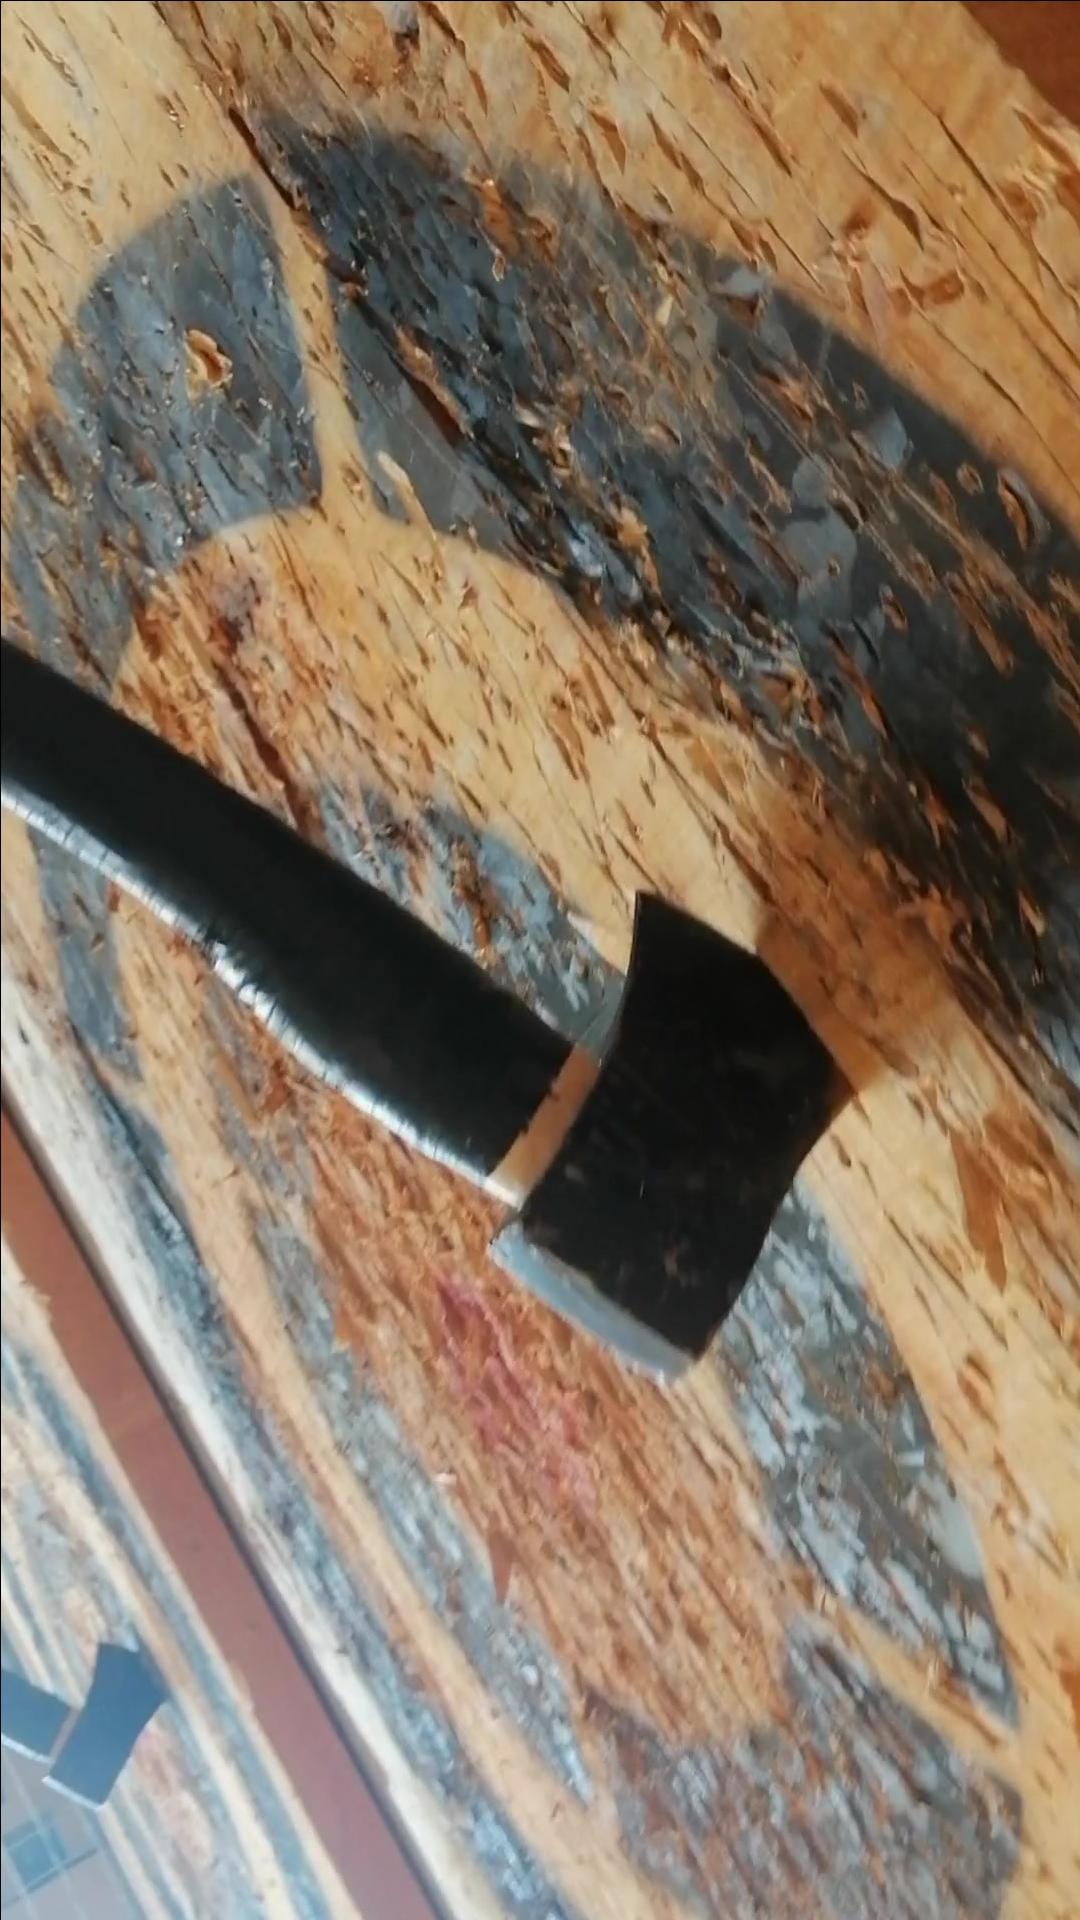Hand Axe: (485, 895, 849, 1383)
